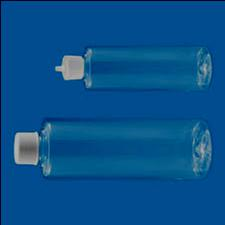Plastic: (8, 115, 216, 181), (53, 41, 217, 93)
